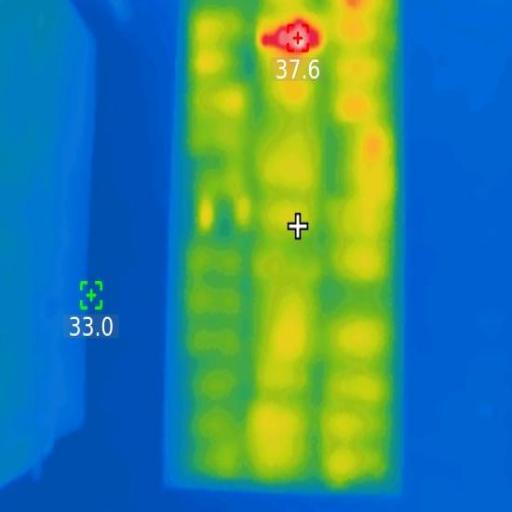hotspot: (262, 16, 320, 60)
